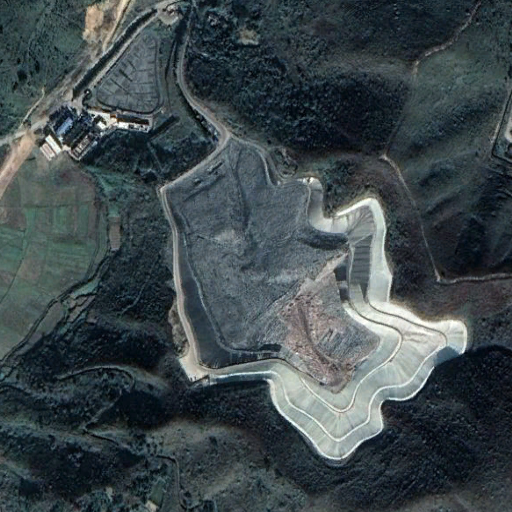lf: (166, 137, 467, 457)
